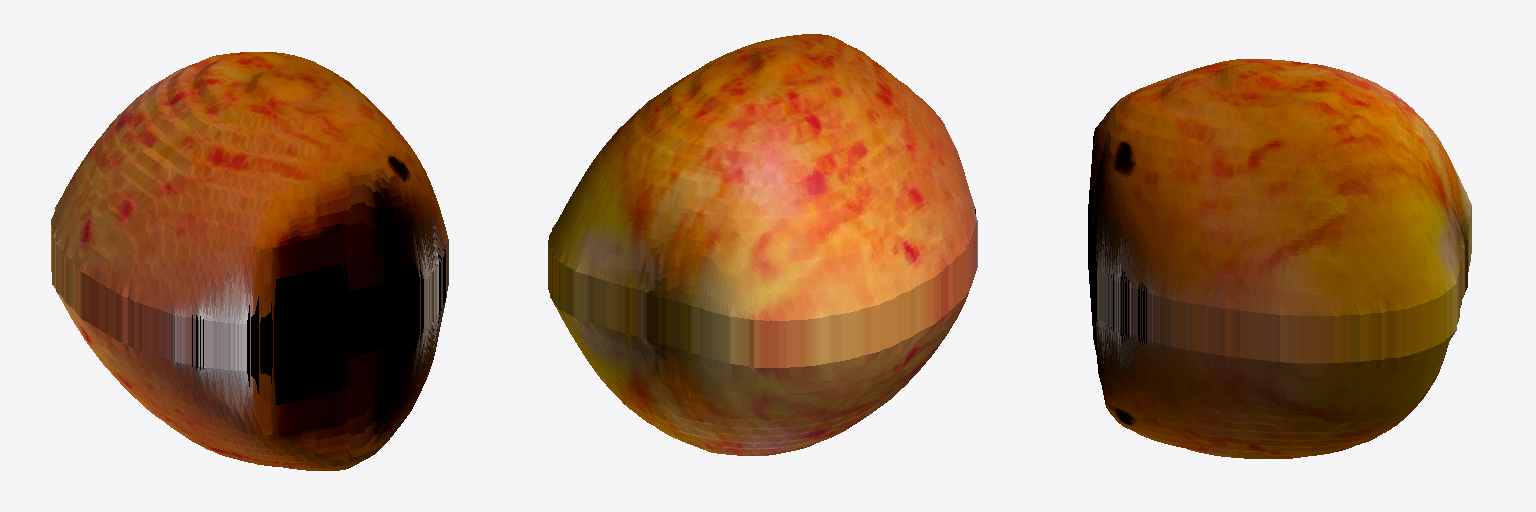
The picture shows the model from 3 angles: view 1: azimuth 30°, elevation 25°; view 2: azimuth 150°, elevation 25°; view 3: azimuth 270°, elevation 25°; orthographic projection.
Parts seen in each view (by area): view 1: Grid; view 2: Grid; view 3: Grid.
Boxes of the visible parts, x1,y1,x2,y2 form: Grid: [51, 52, 448, 470]; Grid: [548, 34, 977, 455]; Grid: [1088, 59, 1471, 458].
Bounding box in the file's own units: 1.52 × 1.6 × 1.48.
Materials: 1 (1 with a texture image).